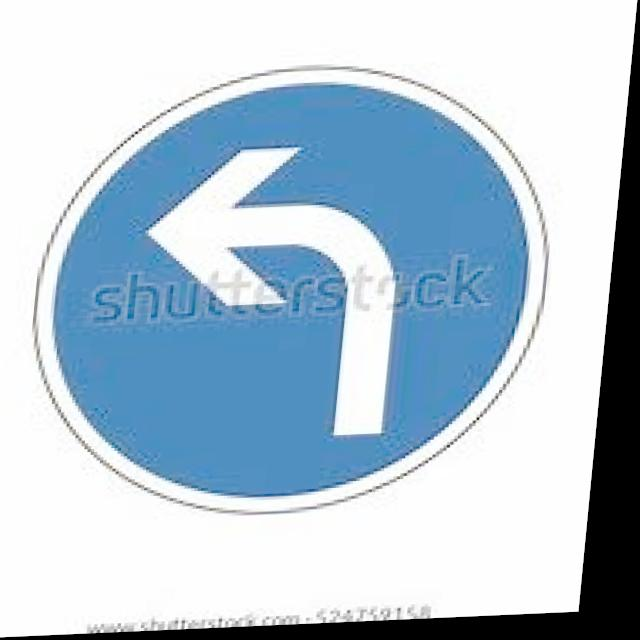COMPULSARY_TURN_LEFT_AHEAD: (11, 48, 582, 526)
